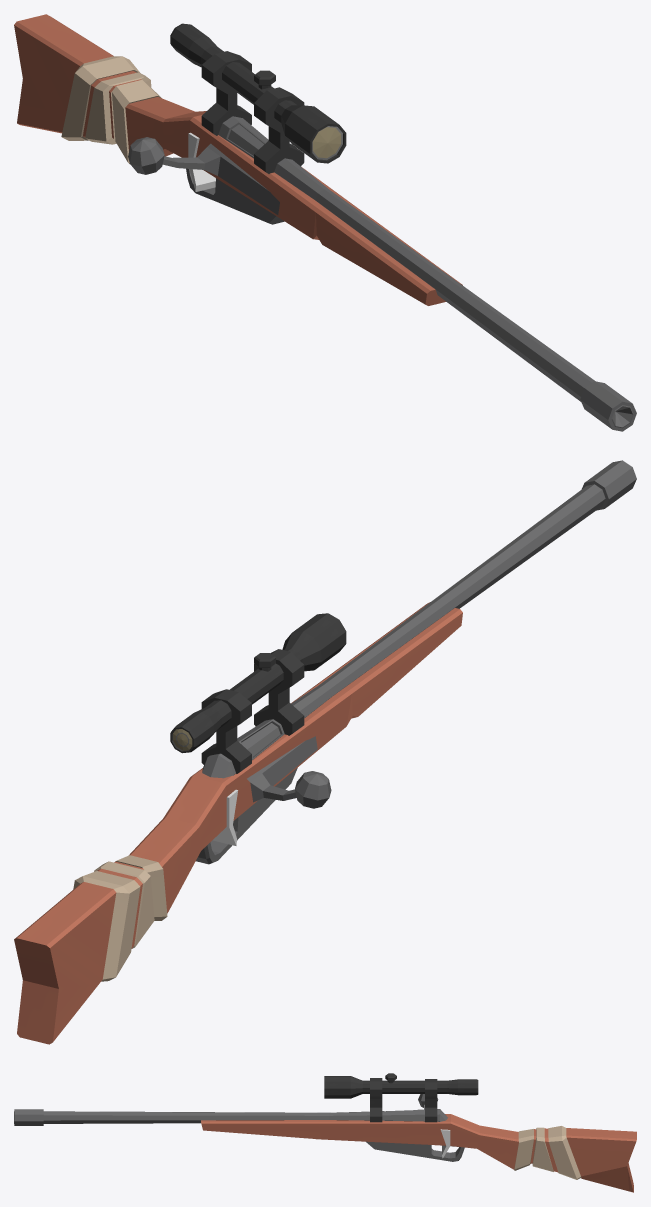
File: Sniper_1_Mesh.fbx
3 renders of one model, top to bottom at view 1: azimuth 30°, elevation 25°; view 2: azimuth 150°, elevation 25°; view 3: azimuth 270°, elevation 25°, orthographic. The views are drawn at different scales.
Parts seen in each view (by area): view 1: Sniper_Bpdy, Puller, Triggler; view 2: Sniper_Bpdy, Puller; view 3: Sniper_Bpdy, Triggler.
Part boxes in pixels (x1,y1,x2,y2): Sniper_Bpdy: (14, 14, 636, 431); Puller: (128, 137, 279, 214); Triggler: (188, 132, 215, 191); Sniper_Bpdy: (14, 460, 636, 1044); Puller: (247, 736, 331, 808); Sniper_Bpdy: (14, 1073, 636, 1192); Triggler: (440, 1129, 450, 1158).
Bounding box in the file's own units: 36.09 × 58.62 × 291.
Materials: 1 (1 with a texture image).
